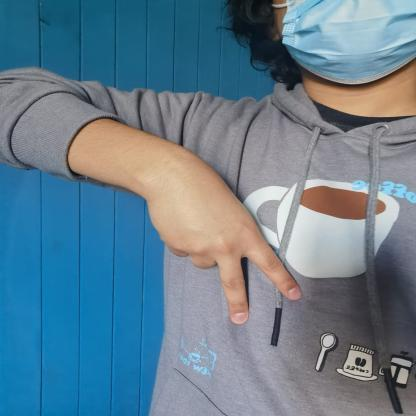N: (113, 151, 317, 327)
